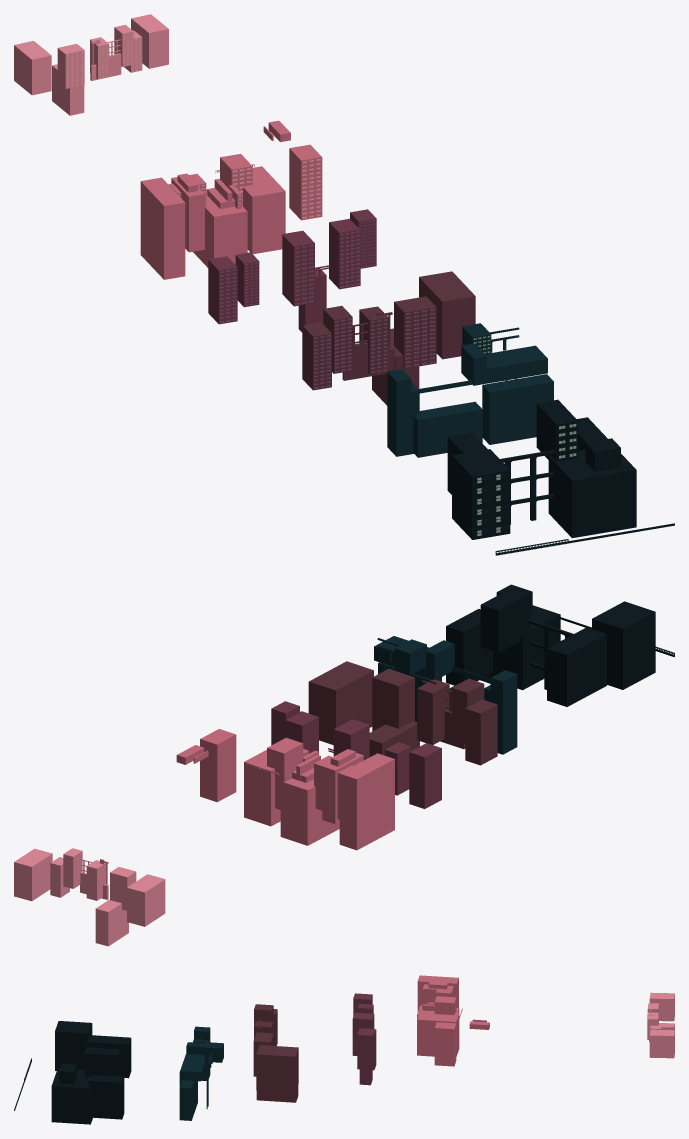
The picture shows the model from 3 angles, top to bottom: view 1: azimuth 30°, elevation 25°; view 2: azimuth 150°, elevation 25°; view 3: azimuth 270°, elevation 25°; orthographic projection. The views are drawn at different scales.
Parts seen in each view (by area): view 1: Cube.001, Cube.009, Cube.049, Cube.029, Cube.035, Cube.041, Cube.003, Cube.024, Cube.015, Cube.006, Cube.050, Cube.042 (+21 smaller); view 2: Cube.049, Cube.009, Cube.012, Cube.035, Cube.001, Cube.002, Cube.050, Cube.042, Cube.003, Cube.013, Cube.041, Cube.004 (+21 smaller); view 3: Cube.035, Cube.001, Cube.009, Cube.013, Cube.041, Cube.002, Cube.042, Cube.012, Cube.015, Cube.068, Cube.029, Cube.049 (+13 smaller).
Part boxes in pixels (bbox=[...]): Cube.001: bbox=[548, 449, 636, 538]; Cube.009: bbox=[452, 449, 510, 539]; Cube.049: bbox=[140, 177, 185, 279]; Cube.029: bbox=[482, 374, 553, 444]; Cube.035: bbox=[419, 271, 475, 359]; Cube.041: bbox=[243, 166, 285, 254]; Cube.003: bbox=[394, 296, 436, 368]; Cube.024: bbox=[413, 401, 482, 457]; Cube.015: bbox=[461, 343, 547, 385]; Cube.006: bbox=[387, 369, 419, 456]; Cube.050: bbox=[193, 189, 247, 267]; Cube.042: bbox=[289, 144, 322, 220]; Cube.049: bbox=[339, 753, 394, 850]; Cube.009: bbox=[592, 601, 655, 689]; Cube.012: bbox=[547, 627, 606, 706]; Cube.035: bbox=[308, 661, 373, 744]; Cube.001: bbox=[485, 605, 560, 690]; Cube.002: bbox=[480, 587, 530, 652]; Cube.050: bbox=[280, 778, 339, 845]; Cube.042: bbox=[200, 729, 236, 802]; Cube.003: bbox=[372, 668, 414, 731]; Cube.013: bbox=[446, 609, 493, 685]; Cube.041: bbox=[244, 749, 308, 826]; Cube.004: bbox=[465, 699, 497, 765]; Cube.035: bbox=[256, 1045, 298, 1092]; Cube.001: bbox=[51, 1068, 92, 1124]; Cube.009: bbox=[55, 1021, 92, 1070]; Cube.013: bbox=[88, 1075, 124, 1119]; Cube.041: bbox=[417, 1010, 459, 1056]; Cube.002: bbox=[84, 1047, 120, 1076]; Cube.042: bbox=[434, 1022, 456, 1066]; Cube.012: bbox=[87, 1035, 131, 1078]; Cube.015: bbox=[180, 1042, 207, 1081]; Cube.068: bbox=[649, 1029, 674, 1058]; Cube.029: bbox=[179, 1080, 197, 1120]; Cube.049: bbox=[417, 975, 458, 1011].
Size of the model in its own units: 728 by 539 by 3336.
